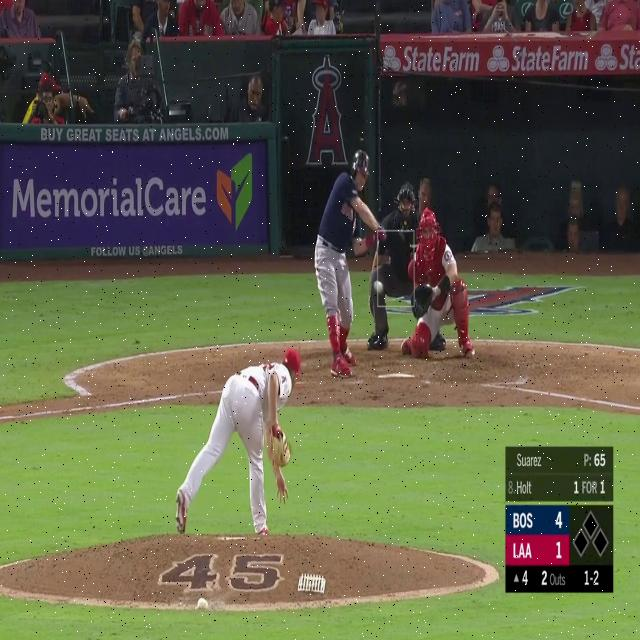baseball: (374, 280, 383, 294)
